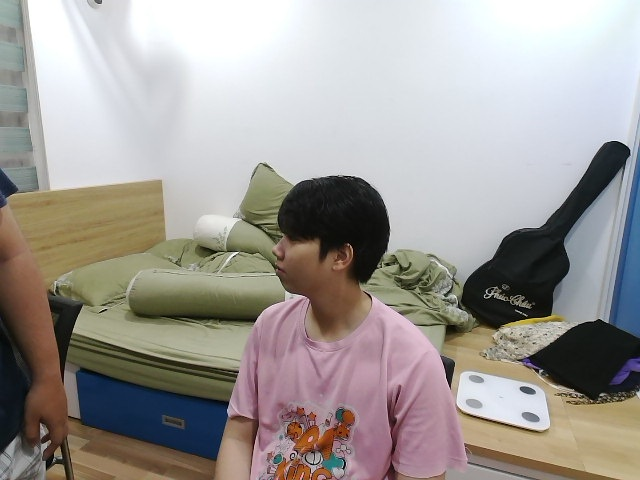face: (272, 174, 390, 295)
